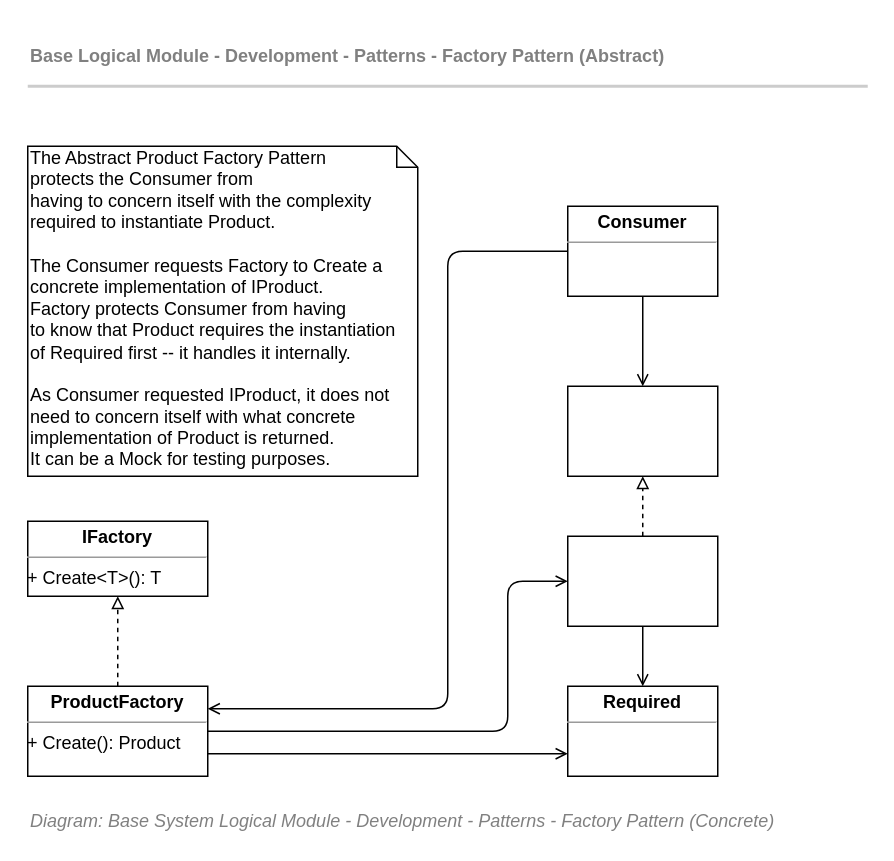
Image size: 894x861. Some labels were removed from this diagram. Each missing label, with the box of its shape:
IProduct + SomeMethod(): (566, 385, 718, 476)
Product: (566, 535, 718, 626)
